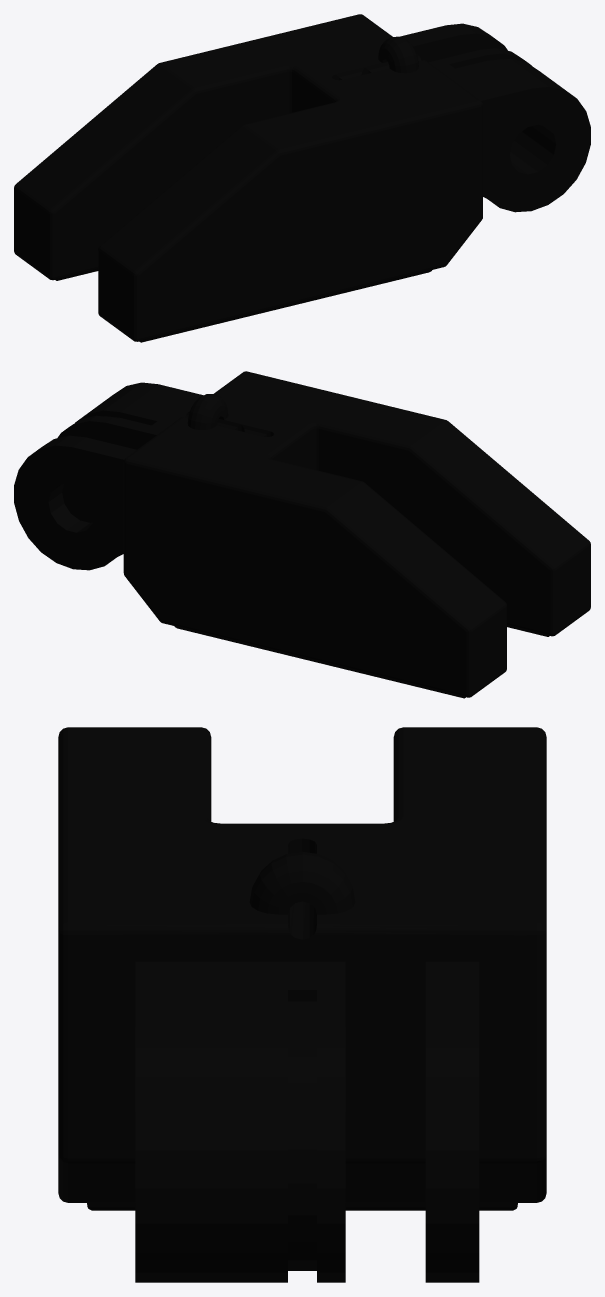
Rendered from gripper_right_distal_link.obj.
The picture shows the model from 3 angles, top to bottom: view 1: azimuth 30°, elevation 25°; view 2: azimuth 150°, elevation 25°; view 3: azimuth 270°, elevation 25°; orthographic projection. The views are drawn at different scales.
Visible parts, largest first — view 1: gripper_right_distal_link; view 2: gripper_right_distal_link; view 3: gripper_right_distal_link.
Part boxes in pixels (box(x1,y1,x2,y2)): gripper_right_distal_link: box(14, 14, 590, 342); gripper_right_distal_link: box(14, 371, 590, 698); gripper_right_distal_link: box(58, 727, 546, 1282).
Size of the model in its own units: 0.0569 by 0.0217 by 0.0254.
Materials: 1 (1 with a texture image).
